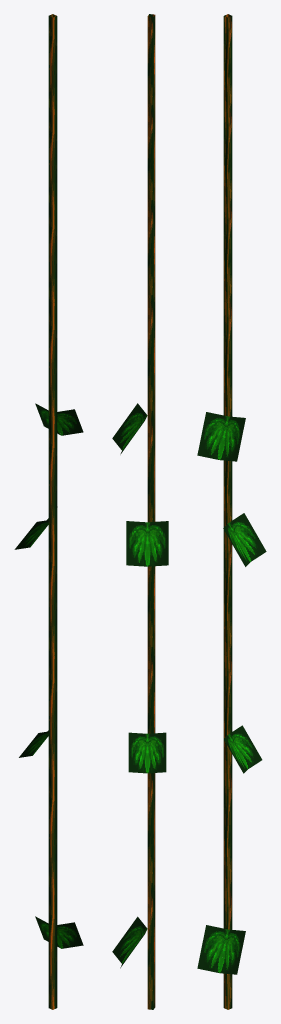
Rendered from INST_OH_VINE.fbx.
3 views of the same model, side by side, from view 1: azimuth 90°, elevation 25°; view 2: azimuth 210°, elevation 25°; view 3: azimuth 270°, elevation 25° (orthographic).
Parts seen in each view (by area): view 1: INST_OH_VINE; view 2: INST_OH_VINE; view 3: INST_OH_VINE.
Boxes of the visible parts, <box> form: INST_OH_VINE: <box>14,14,83,1009</box>; INST_OH_VINE: <box>112,14,168,1009</box>; INST_OH_VINE: <box>197,14,266,1009</box>.
Size of the model in its own units: 3269 by 68009 by 4306.
2 materials, 2 textured.
